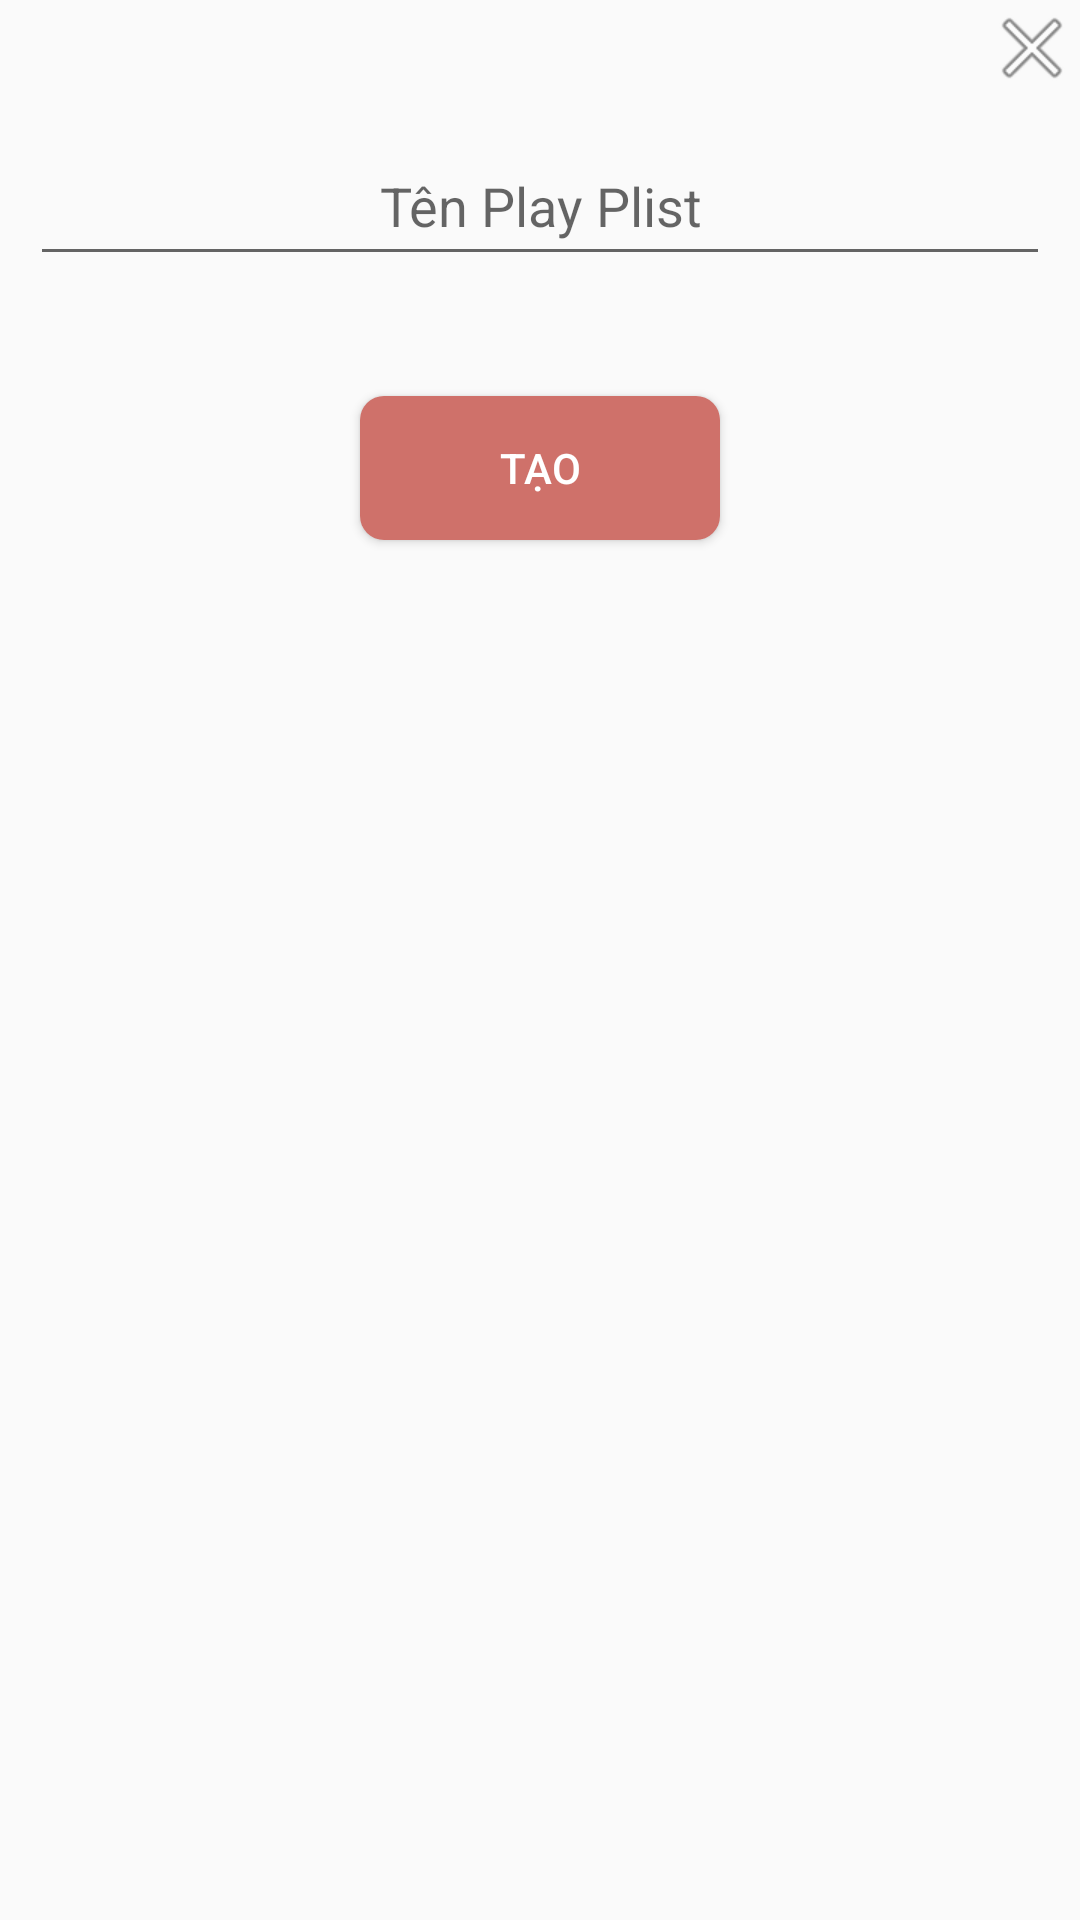

Icon click points for this 1080 x 1920 phone screenshot, format (x,y):
close clear cancel: (1032,48)
